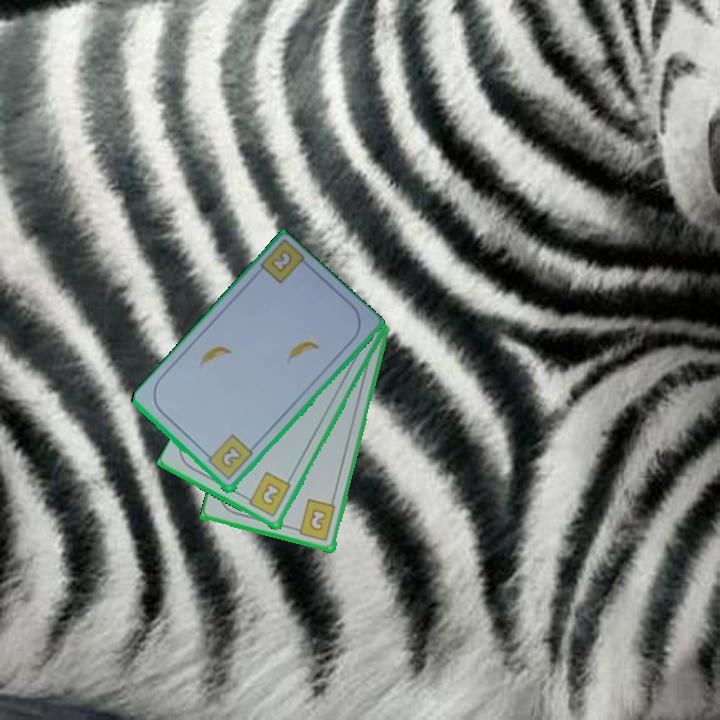2b: (201, 431, 256, 483), (241, 469, 294, 520), (290, 496, 339, 544), (270, 249, 293, 273)
